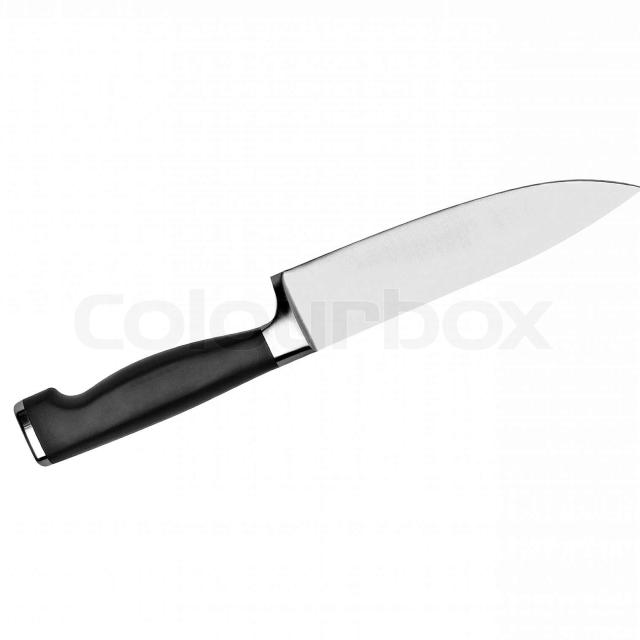Knife: (13, 177, 639, 467)
